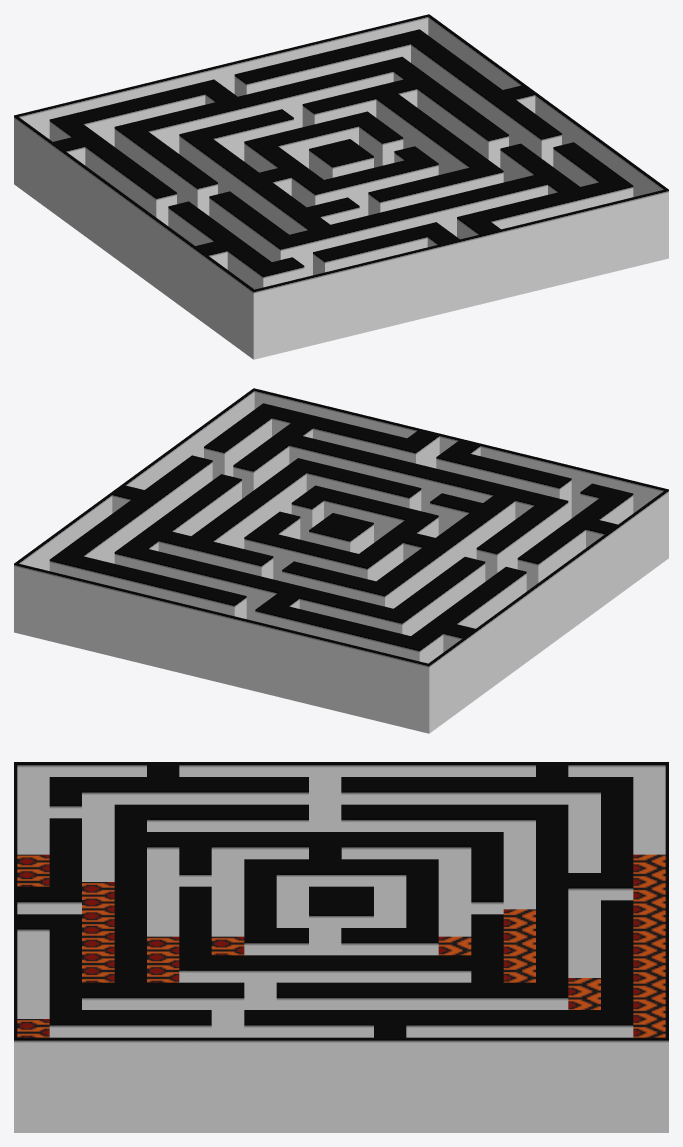
Rendered from Level03.fbx.
The picture shows the model from 3 angles, top to bottom: view 1: azimuth 30°, elevation 25°; view 2: azimuth 150°, elevation 25°; view 3: azimuth 270°, elevation 25°; orthographic projection. The views are drawn at different scales.
Visible parts, largest first — view 1: Union_23; view 2: Union_23; view 3: Union_23.
Boxes of the visible parts, x1,y1,x2,y2 form: Union_23: [14, 14, 668, 359]; Union_23: [14, 388, 668, 733]; Union_23: [14, 762, 668, 1132].
Size of the model in its own units: 202 by 32 by 202.
